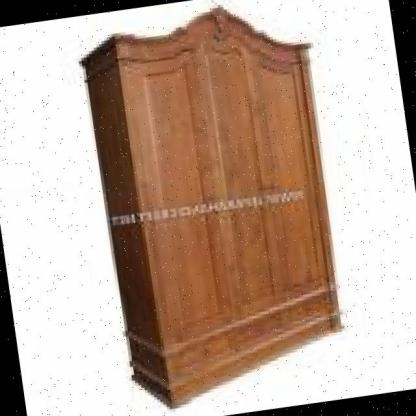Closet: (70, 0, 370, 416)
